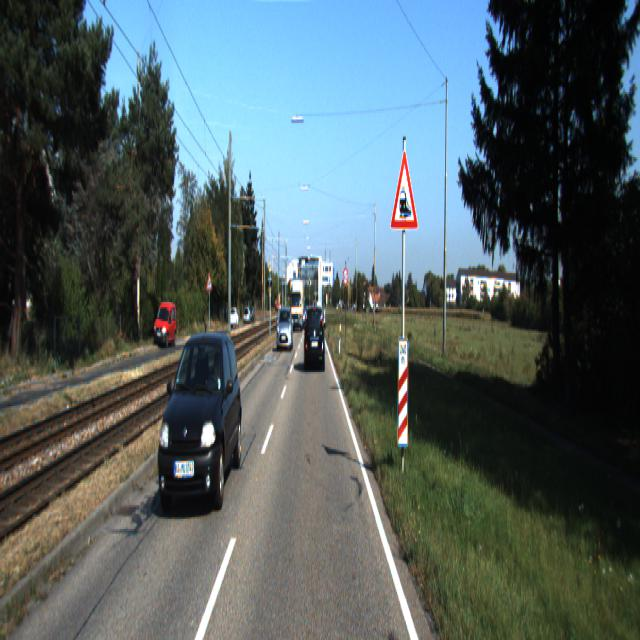Car: (156, 322, 245, 519), (305, 305, 325, 373), (154, 301, 178, 348), (277, 304, 293, 352), (291, 276, 304, 330)
